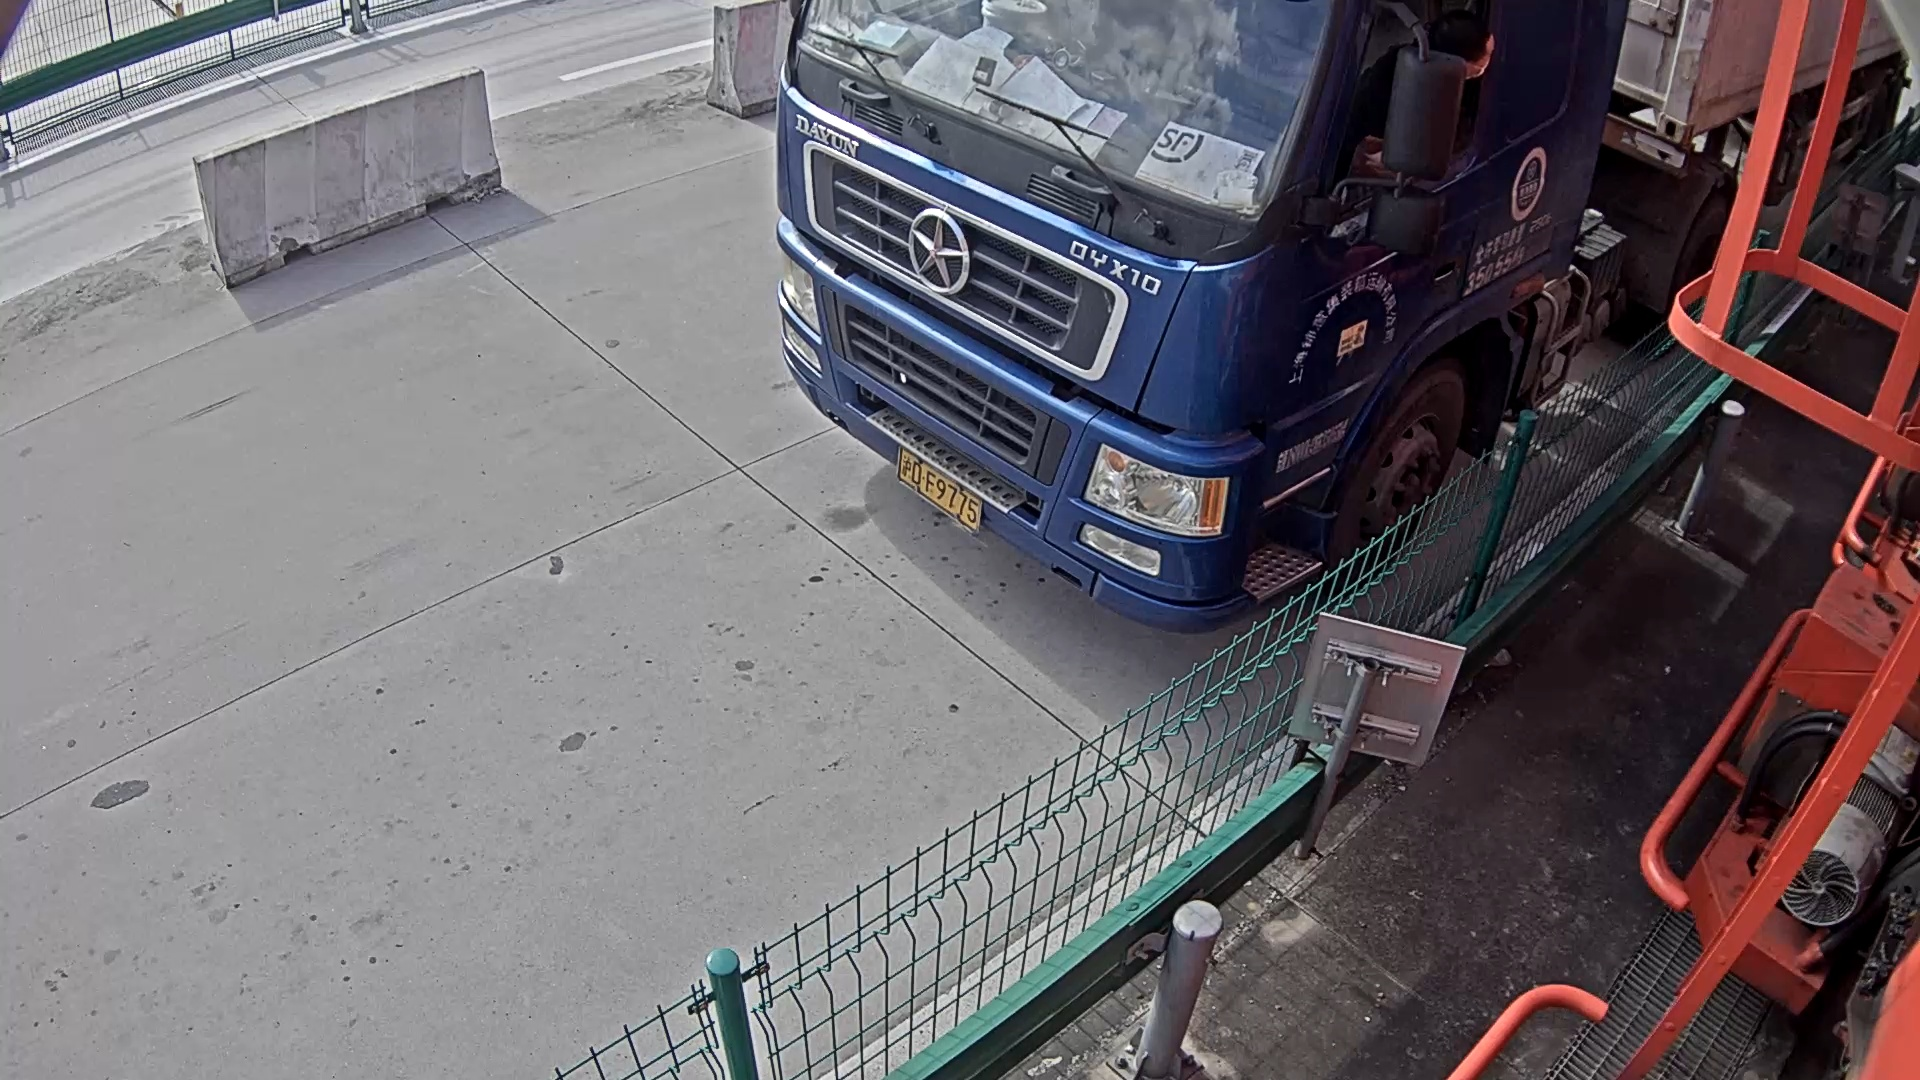head: (778, 1, 1632, 599)
plate: (894, 449, 986, 528)
